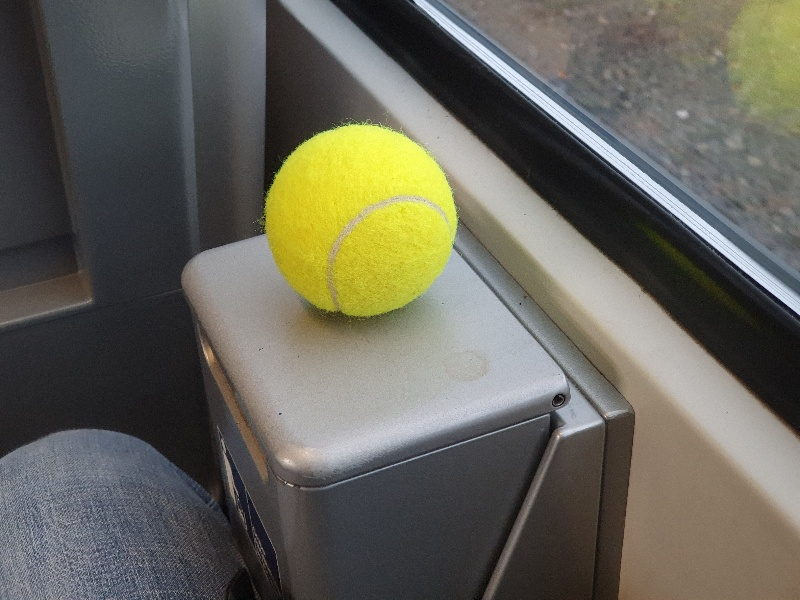Tennisball: (260, 120, 460, 327)
